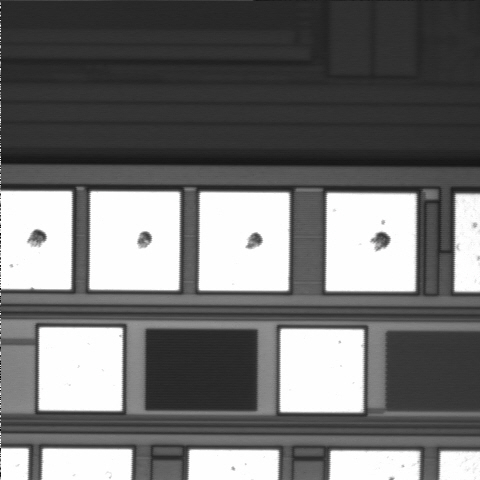pad: (90, 191, 180, 290), (199, 192, 289, 291), (326, 193, 416, 291), (39, 327, 122, 411), (280, 329, 364, 412)
